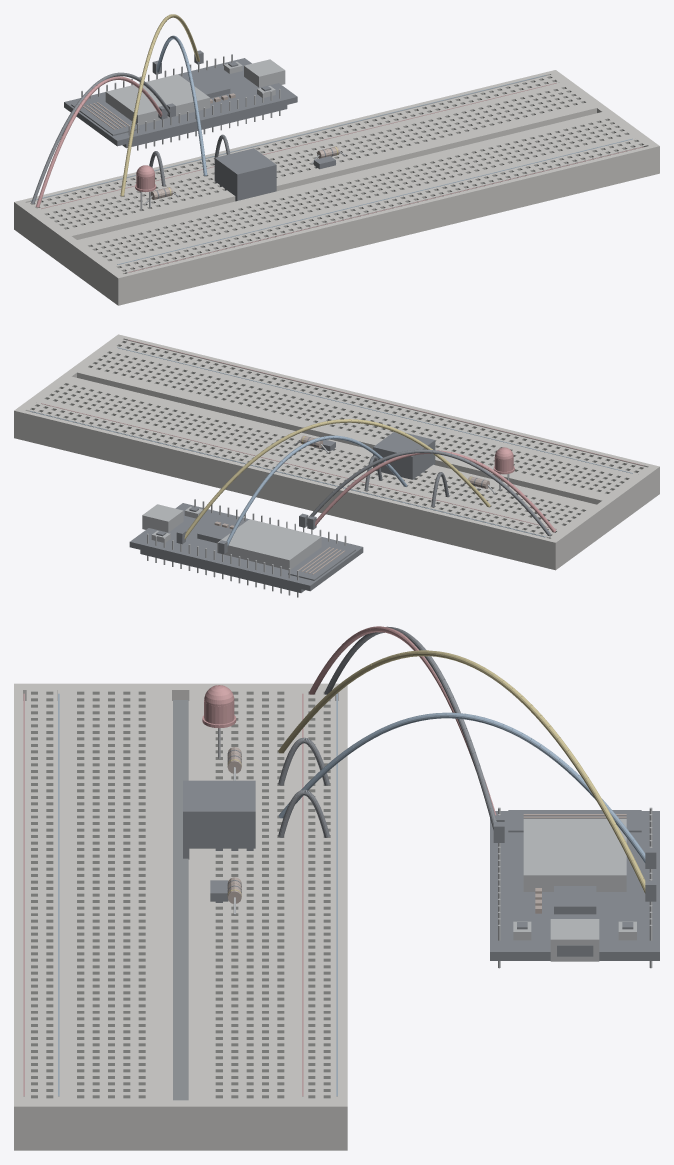
File: step-11.glb
3 renders of one model, top to bottom at view 1: azimuth 30°, elevation 25°; view 2: azimuth 150°, elevation 25°; view 3: azimuth 270°, elevation 25°, orthographic. The views are drawn at different scales.
Visible parts, largest first — view 1: breadboard_1__mesh, arduino_uno__mesh, buzzer_1__mesh, wire_led_sig__mesh, wire_main_gnd__mesh, wire_main_5v__mesh, wire_buzzer_sig__mesh, led_red__mesh; view 2: breadboard_1__mesh, arduino_uno__mesh, buzzer_1__mesh, wire_led_sig__mesh, wire_main_gnd__mesh, wire_main_5v__mesh, wire_buzzer_sig__mesh, led_red__mesh; view 3: breadboard_1__mesh, arduino_uno__mesh, buzzer_1__mesh, wire_led_sig__mesh, wire_buzzer_sig__mesh, wire_main_gnd__mesh, wire_main_5v__mesh, led_red__mesh.
Part boxes in pixels (x1,y1,x2,y2): breadboard_1__mesh: [14, 70, 659, 305]; arduino_uno__mesh: [64, 54, 297, 150]; buzzer_1__mesh: [214, 148, 276, 201]; wire_led_sig__mesh: [120, 14, 203, 196]; wire_main_gnd__mesh: [31, 72, 175, 203]; wire_main_5v__mesh: [36, 76, 167, 207]; wire_buzzer_sig__mesh: [152, 35, 207, 175]; led_red__mesh: [135, 165, 156, 210]; breadboard_1__mesh: [14, 334, 659, 570]; arduino_uno__mesh: [129, 499, 363, 597]; buzzer_1__mesh: [373, 432, 435, 479]; wire_led_sig__mesh: [176, 419, 490, 544]; wire_main_gnd__mesh: [299, 449, 550, 535]; wire_main_5v__mesh: [307, 450, 555, 532]; wire_buzzer_sig__mesh: [218, 435, 407, 554]; led_red__mesh: [493, 447, 514, 492]; breadboard_1__mesh: [14, 683, 347, 1150]; arduino_uno__mesh: [490, 807, 659, 968]; buzzer_1__mesh: [183, 780, 255, 859]; wire_led_sig__mesh: [278, 650, 656, 901]; wire_buzzer_sig__mesh: [278, 712, 656, 868]; wire_main_gnd__mesh: [324, 626, 504, 842]; wire_main_5v__mesh: [309, 626, 504, 821]; led_red__mesh: [202, 685, 236, 758].
Size of the model in its own units: 0.165 by 0.0386 by 0.1065.
